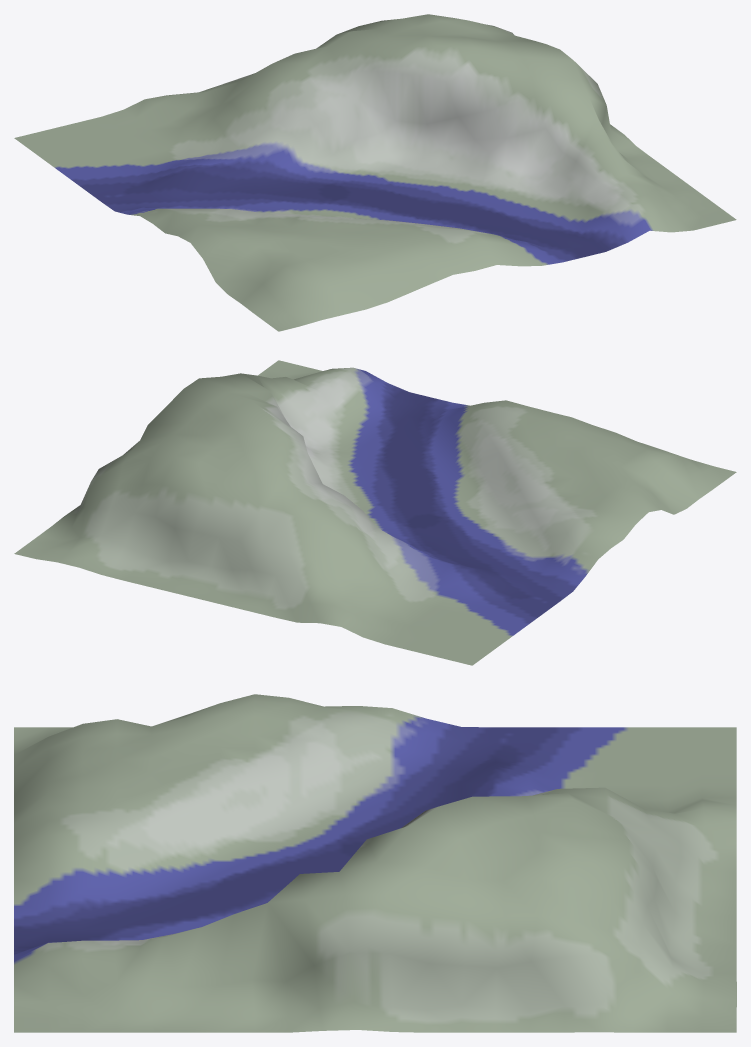
File: terrain.obj
The picture shows the model from 3 angles, top to bottom: view 1: azimuth 30°, elevation 25°; view 2: azimuth 150°, elevation 25°; view 3: azimuth 270°, elevation 25°; orthographic projection. The views are drawn at different scales.
Parts seen in each view (by area): view 1: Plane; view 2: Plane; view 3: Plane.
Boxes of the visible parts, x1=… form: Plane: x1=14, y1=14, x2=736, y2=331; Plane: x1=14, y1=360, x2=736, y2=665; Plane: x1=14, y1=694, x2=736, y2=1032.
Bounding box in the file's own units: 4.01 × 0.7944 × 4.
